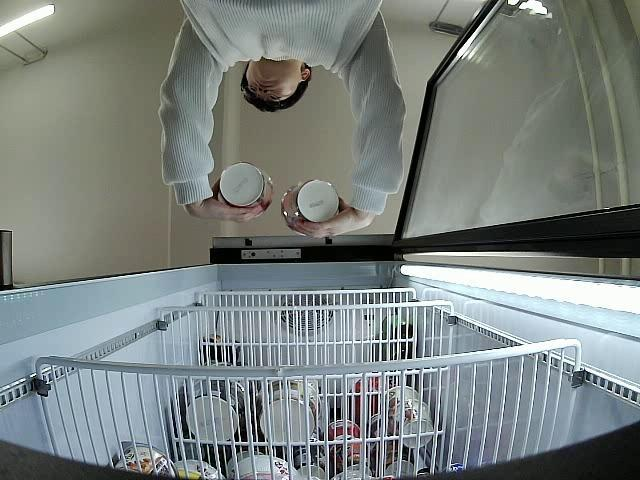01_ShinRamen_L: (283, 177, 341, 234), (216, 162, 272, 212)
